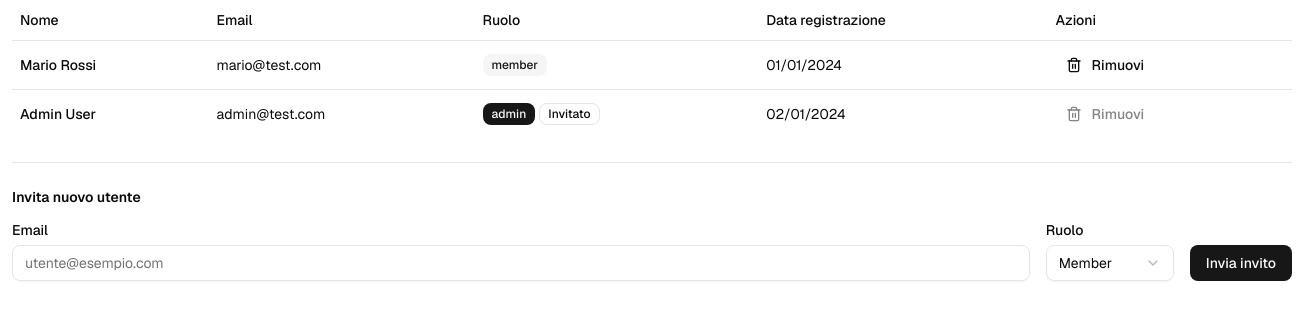
UserManagement › shows error on invite with duplicate email (409)
This screenshot has width=1304, height=326.
Type "mario@test.com" into the field with placeholder "utente@esempio.com".
click(521, 262); type("mario@test.com")  # box top-left (12, 244), bottom-right (1030, 280)
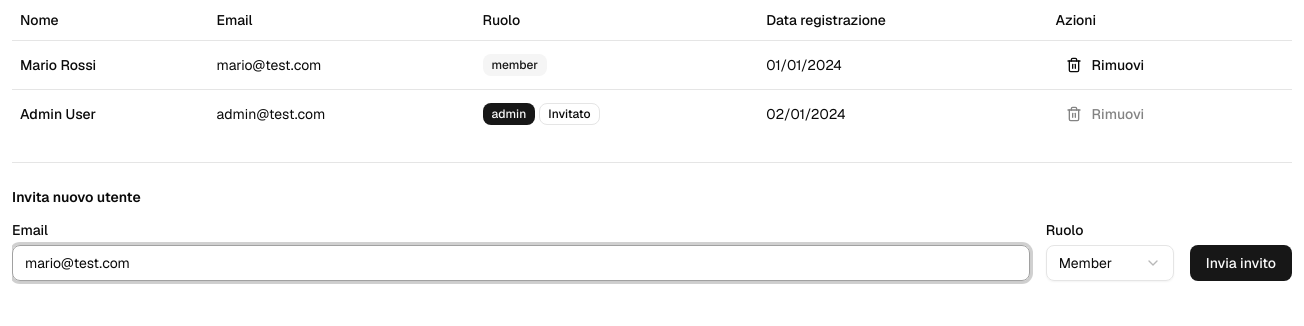
Click the button "Invia invito".
click(1241, 262)  # box top-left (1190, 244), bottom-right (1292, 280)
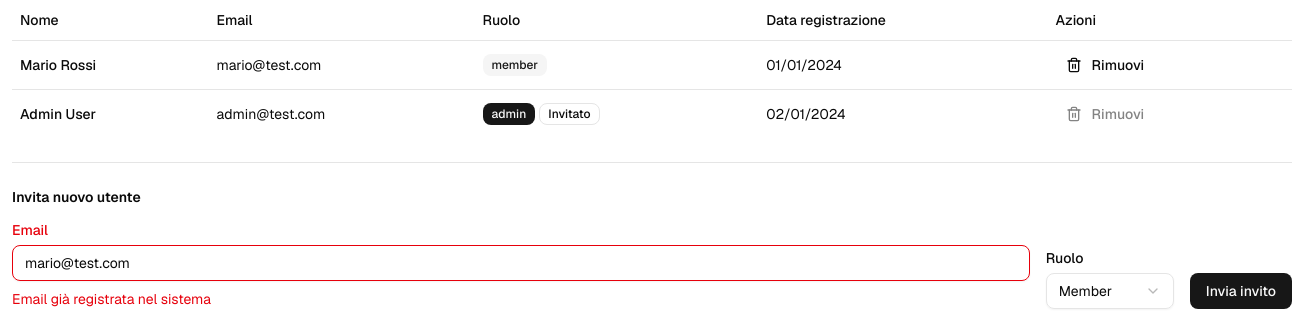
Expected: the text "Email già registrata nel sistema" is shown, top-left (12, 290), bottom-right (211, 308)
